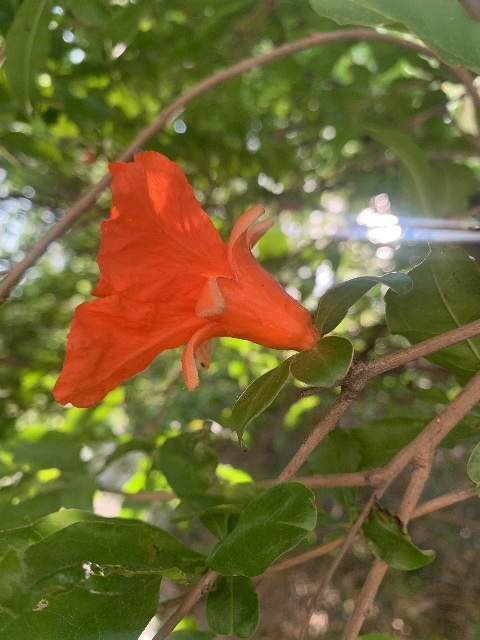flower: (52, 150, 317, 408)
